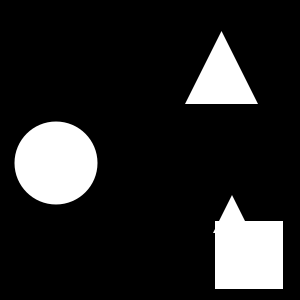circle: (215, 221, 283, 289)
rectangle: (15, 122, 98, 204)
triangle: (185, 31, 258, 104), (213, 195, 251, 233)
